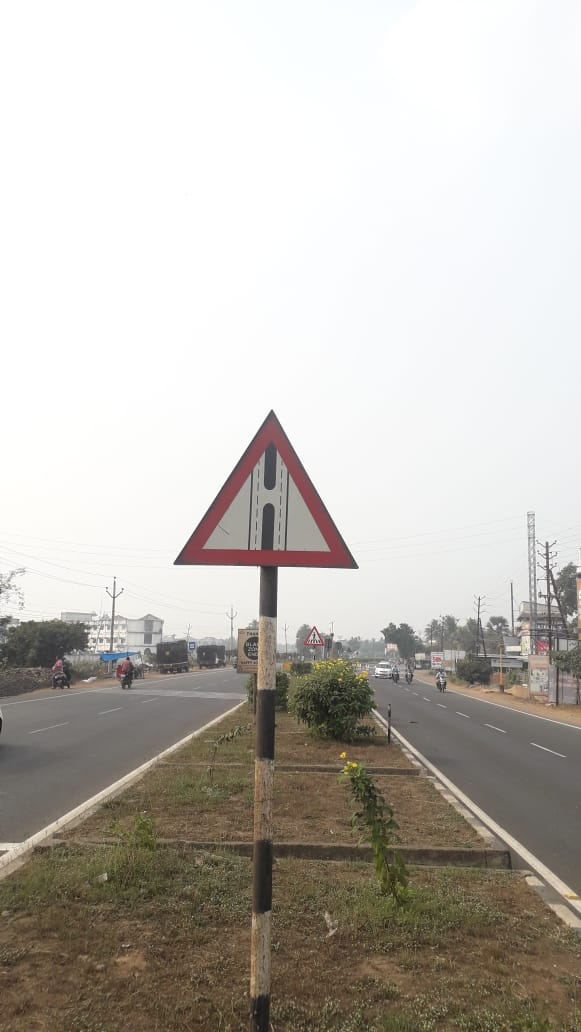highway go straight: (165, 403, 362, 599)
